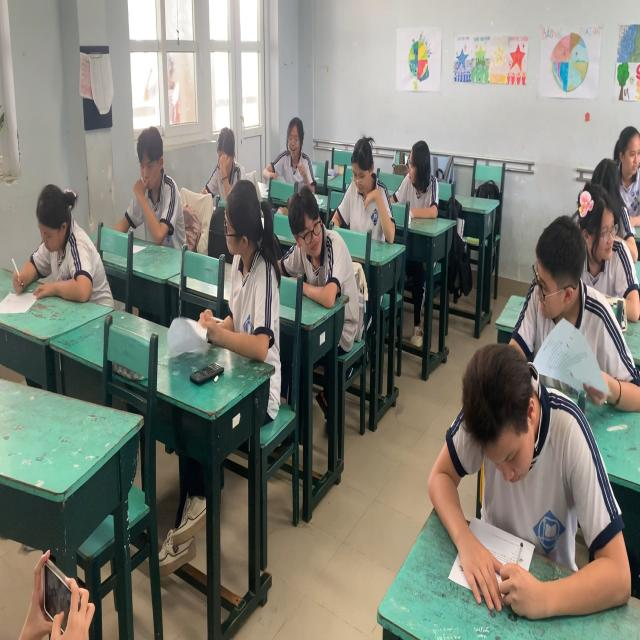cheating: (519, 226, 597, 385), (214, 174, 282, 337), (280, 181, 340, 295), (577, 182, 630, 291), (402, 126, 443, 222)
not_cheating: (441, 362, 612, 600), (25, 181, 101, 298), (336, 125, 391, 240), (122, 129, 178, 240), (206, 112, 243, 192), (276, 108, 312, 180)
